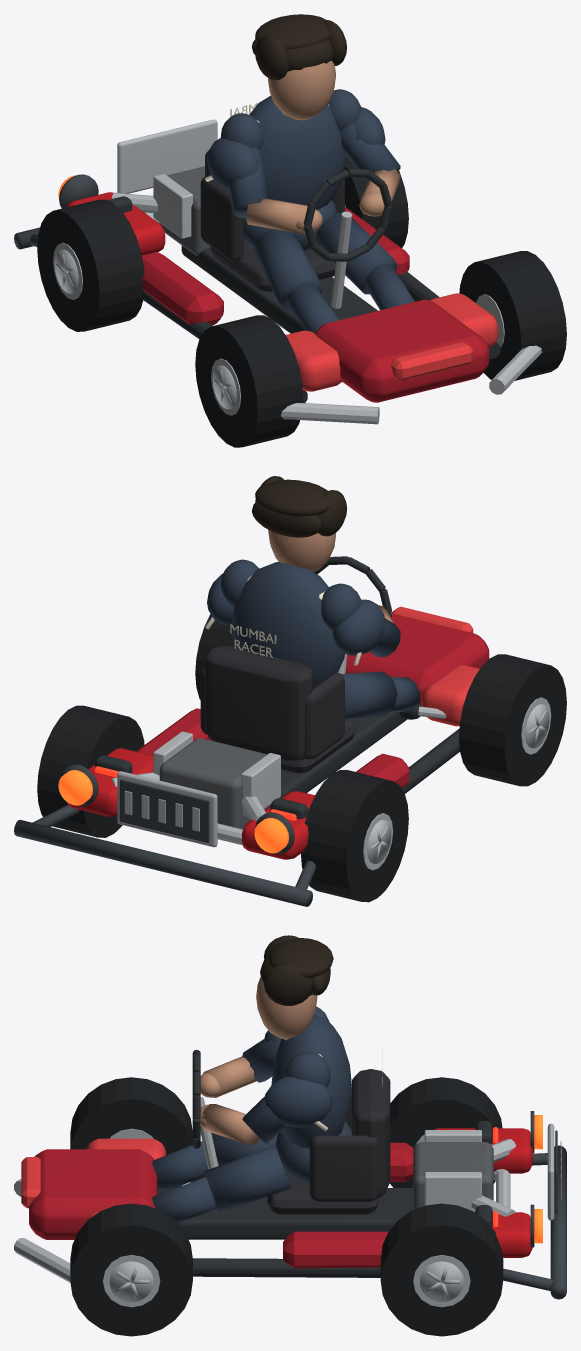
File: sea-link-kart.glb
3 views of the same model, one above another, from view 1: azimuth 30°, elevation 25°; view 2: azimuth 150°, elevation 25°; view 3: azimuth 270°, elevation 25° (orthographic).
Parts seen in each view (by area): view 1: Kart Racing jersey, Kart Crimson paint, Tire.001, Tire, Tire.002, Kart Tubular black steel, Kart Brushed alloy, Kart Fairing highlight, Kart Adult skin, Kart Bucket seat, Rear number plate, Tire.003 (+12 smaller); view 2: Kart Racing jersey, Kart Bucket seat, Tire, Tire.001, Kart Crimson paint, Tire.003, Kart Tubular black steel, Rear bumper crossbar, Kart Engine graphite, Kart Brushed alloy, Rear plate inset, Kart Fairing highlight (+14 smaller); view 3: Kart Racing jersey, Kart Crimson paint, Tire.003, Tire.002, Kart Tubular black steel, Kart Bucket seat, Tire, Kart Brushed alloy, Tire.001, Kart Adult skin, Kart Engine graphite, Adult jacket shoulder R (+12 smaller).
Boxes of the visible parts, bbox=[...] form: Kart Racing jersey: bbox=[220, 89, 414, 333]; Kart Crimson paint: bbox=[142, 207, 489, 402]; Tire.001: bbox=[37, 199, 144, 331]; Tire: bbox=[195, 315, 303, 447]; Tire.002: bbox=[459, 251, 566, 380]; Kart Tubular black steel: bbox=[107, 169, 500, 402]; Kart Brushed alloy: bbox=[111, 174, 541, 424]; Kart Fairing highlight: bbox=[286, 293, 498, 391]; Kart Adult skin: bbox=[246, 61, 399, 234]; Kart Bucket seat: bbox=[200, 150, 344, 291]; Rear number plate: bbox=[117, 119, 217, 193]; Tire.003: bbox=[345, 157, 408, 247]; Kart Racing jersey: bbox=[220, 559, 420, 718]; Kart Bucket seat: bbox=[200, 646, 356, 773]; Tire: bbox=[459, 654, 566, 786]; Tire.001: bbox=[301, 770, 408, 902]; Kart Crimson paint: bbox=[136, 613, 489, 788]; Tire.003: bbox=[37, 705, 144, 837]; Kart Tubular black steel: bbox=[95, 556, 459, 818]; Rear bumper crossbar: bbox=[14, 820, 312, 906]; Kart Engine graphite: bbox=[159, 738, 270, 829]; Kart Brushed alloy: bbox=[111, 654, 446, 845]; Rear plate inset: bbox=[119, 779, 209, 842]; Kart Fairing highlight: bbox=[392, 606, 479, 726]; Kart Racing jersey: bbox=[152, 1006, 351, 1222]; Kart Crimson paint: bbox=[29, 1142, 413, 1268]; Tire.003: bbox=[380, 1203, 503, 1336]; Tire.002: bbox=[70, 1203, 192, 1336]; Kart Tubular black steel: bbox=[157, 1049, 492, 1277]; Kart Bucket seat: bbox=[267, 1069, 390, 1214]; Tire: bbox=[70, 1077, 192, 1187]; Kart Brushed alloy: bbox=[14, 1097, 515, 1282]; Tire.001: bbox=[389, 1077, 502, 1187]; Kart Adult skin: bbox=[199, 976, 317, 1144]; Kart Engine graphite: bbox=[413, 1142, 493, 1209]; Adult jacket shoulder R: bbox=[264, 1076, 332, 1127].
Bounding box in the file's own units: 1.87 × 1.81 × 2.89.
